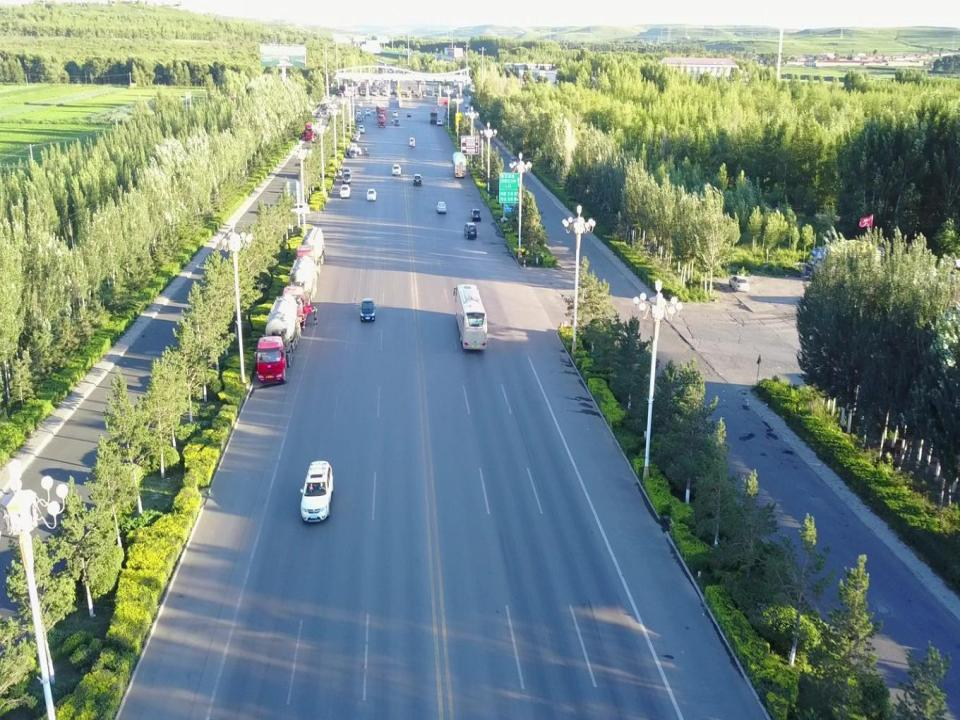bus: (453, 283, 487, 350)
car: (300, 461, 334, 522), (360, 297, 376, 322), (728, 275, 750, 293), (339, 184, 351, 198), (470, 209, 482, 222), (436, 200, 446, 214), (366, 188, 377, 200), (392, 164, 402, 176), (342, 172, 352, 184), (413, 174, 421, 186), (349, 149, 357, 158), (358, 124, 365, 133), (352, 134, 359, 142), (355, 115, 362, 122), (365, 108, 371, 116), (437, 119, 443, 126), (394, 118, 399, 126), (393, 110, 398, 117), (356, 109, 361, 116)
truck: (254, 294, 300, 383), (282, 254, 316, 328), (804, 246, 875, 278), (295, 226, 325, 277), (303, 118, 317, 143), (376, 104, 386, 120), (377, 112, 386, 127), (430, 108, 438, 124)
van: (463, 222, 477, 239), (408, 136, 416, 147)
